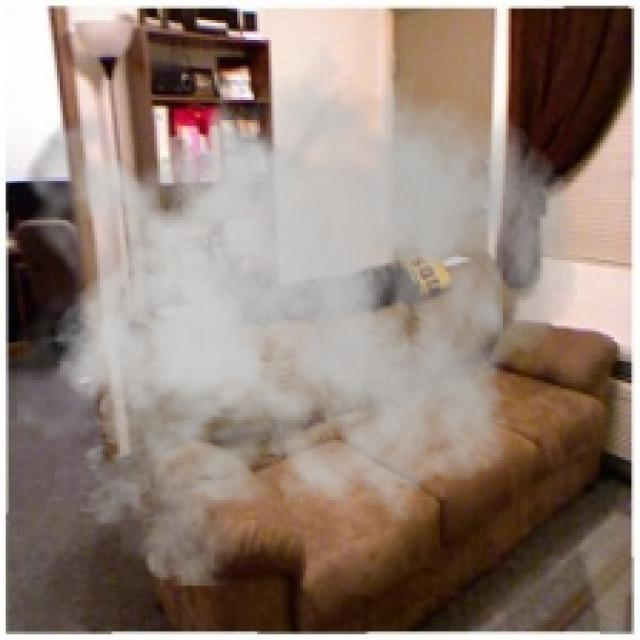smoke: (17, 17, 580, 586)
